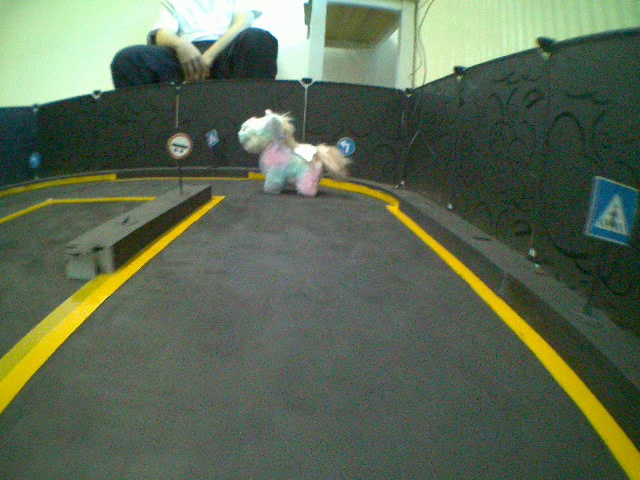unicorn: (232, 108, 351, 205)
